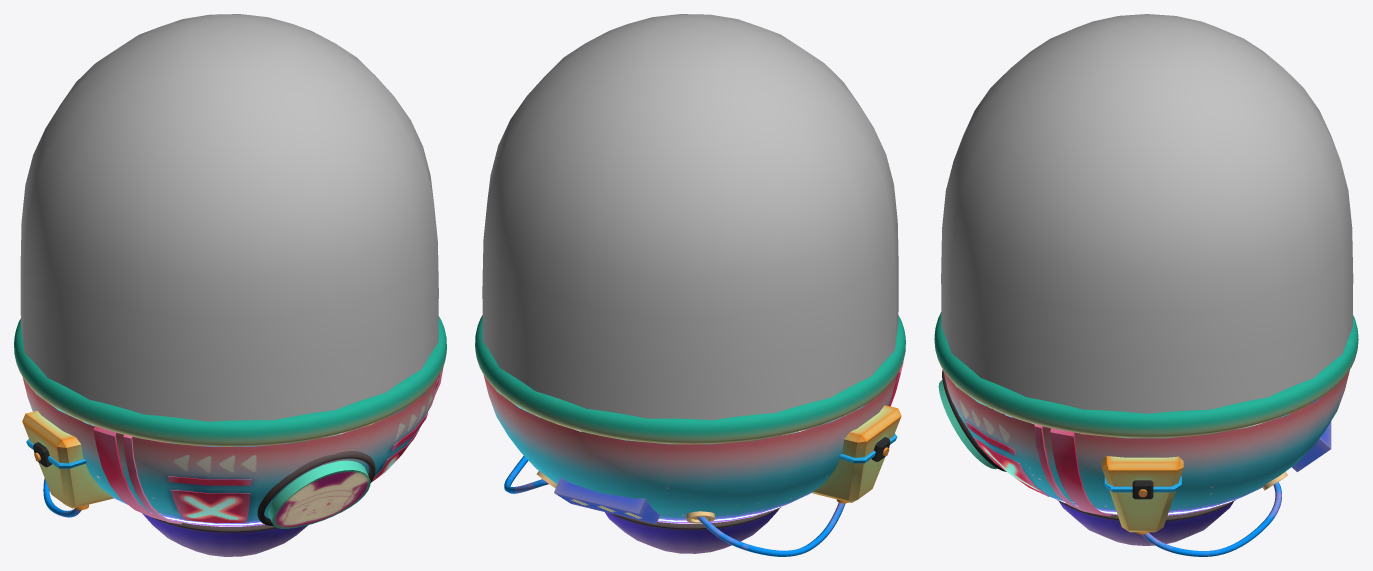
File: rabbit_spaceship_.fbx
3 renders of one model, left to right at view 1: azimuth 30°, elevation 25°; view 2: azimuth 150°, elevation 25°; view 3: azimuth 270°, elevation 25°, orthographic. The views are drawn at different scales.
Visible parts, largest first — view 1: spaceship_body_inner_1.002, spaceship_body_inner_1.001; view 2: spaceship_body_inner_1.002, spaceship_body_inner_1.001; view 3: spaceship_body_inner_1.002, spaceship_body_inner_1.001.
Boxes of the visible parts, x1,y1,x2,y2 form: spaceship_body_inner_1.002: (20, 14, 438, 556); spaceship_body_inner_1.001: (14, 316, 446, 532); spaceship_body_inner_1.002: (482, 14, 898, 553); spaceship_body_inner_1.001: (475, 315, 905, 556); spaceship_body_inner_1.002: (941, 14, 1353, 545); spaceship_body_inner_1.001: (934, 312, 1358, 556).
Bounding box in the file's own units: 264 × 329 × 252.
